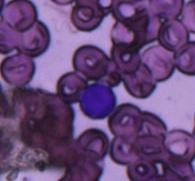L: (78, 82, 116, 119)
